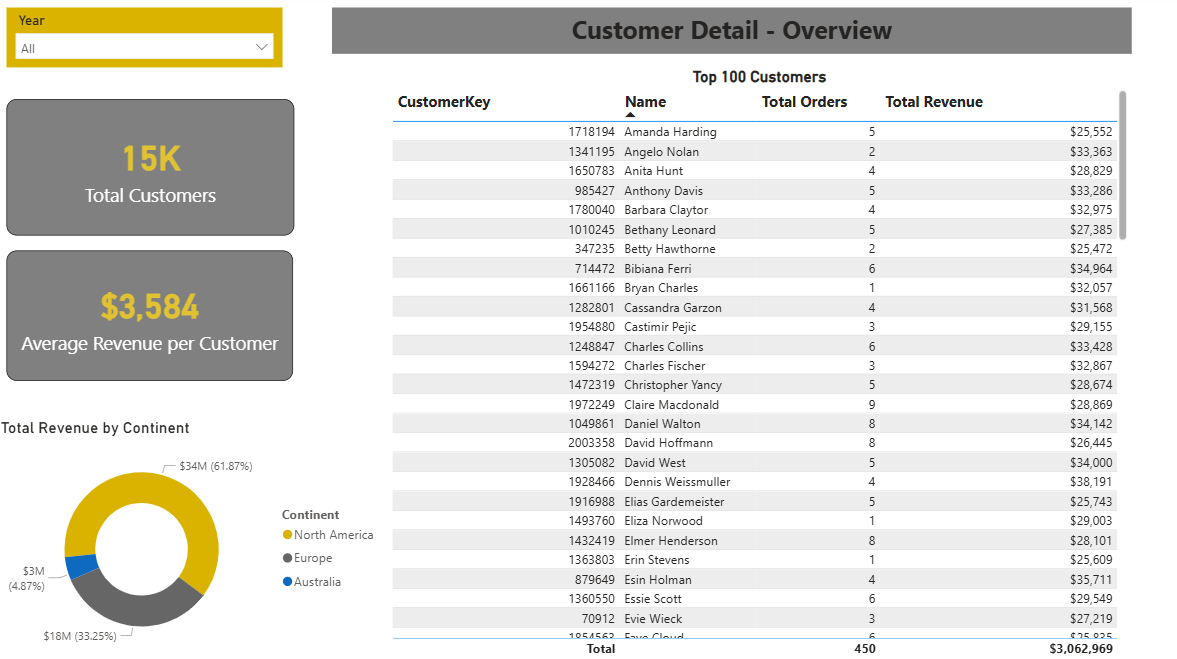

What the dashboard file says about the page in this screenshot:
{"tool":"powerbi","page":{"name":"Customer Detail","canvas":[1280,720],"ordinal":3},"visuals":[{"type":"card","fields":{"Values":["Measures (2).Total Customers"]},"box":[11.3,113.3,310.9,147.3],"z":0},{"type":"card","fields":{"Values":["Measures (2).Average Revenue per Customer"]},"box":[11.3,276.9,309.3,140.9],"z":1000},{"type":"donutChart","fields":{"Y":["Measures (2).Total Revenue"],"Category":["Customers.Continent"]},"box":[0,458.2,422.6,262.3],"z":2000},{"type":"tableEx","title":"Top 100 Customers","fields":{"Values":["Customers.CustomerKey","Customers.Name","Measures (2).Total Orders","Measures (2).Total Revenue"]},"box":[422.6,79.3,803.1,641.2],"z":3000},{"type":"textbox","box":[362.7,14.6,863,50.2],"z":4000},{"type":"slicer","fields":{"Values":["Sales.Order Date.Variation.Date Hierarchy.Year"]},"box":[0,14.6,309.3,64.8],"z":5000}]}

Visuals, with their boxes in screenshot pixels (x1, y1, x2, y2), scaled from the page's 1280x720 canvas onto the 1177x659 screenshot:
card - Measures (2).Total Customers: (left=10, top=104, right=296, bottom=239)
card - Measures (2).Average Revenue per Customer: (left=10, top=253, right=295, bottom=382)
donutChart - Measures (2).Total Revenue x Customers.Continent: (left=0, top=419, right=389, bottom=658)
"Top 100 Customers" tableEx: (left=389, top=73, right=1127, bottom=658)
textbox: (left=334, top=13, right=1127, bottom=59)
slicer - Sales.Order Date.Variation.Date Hierarchy.Year: (left=0, top=13, right=284, bottom=73)
